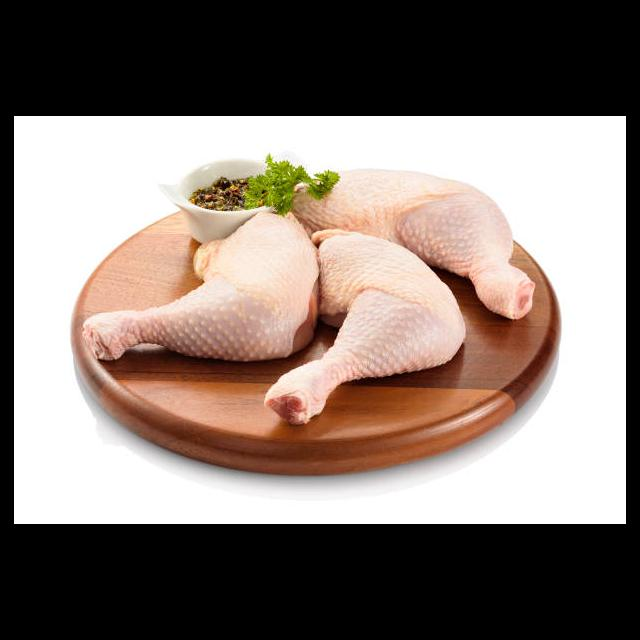chicken: (294, 162, 541, 324), (265, 233, 463, 423), (82, 208, 320, 363)
